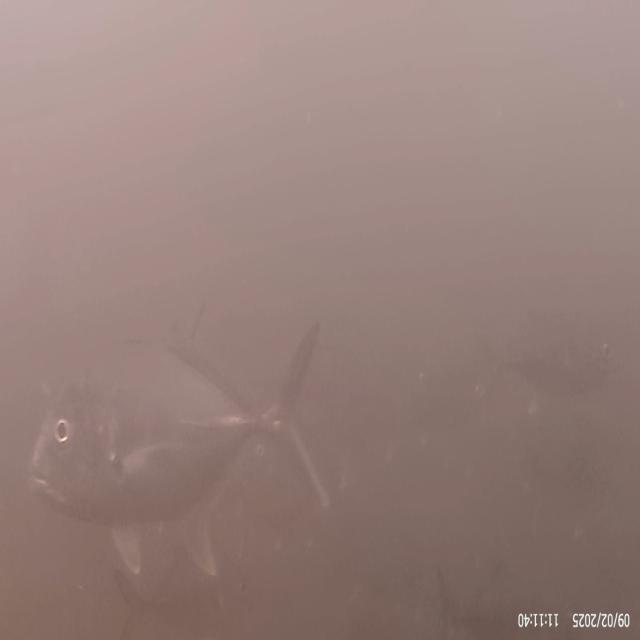ikan: (11, 324, 352, 535)
